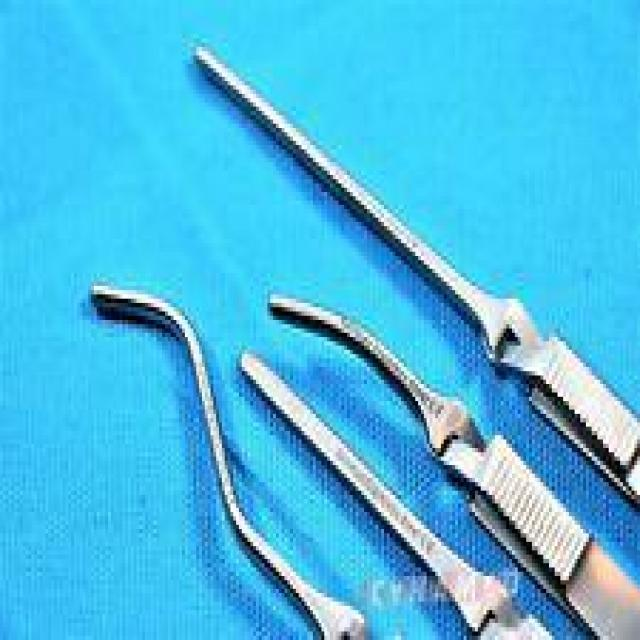Bulldog: (193, 38, 640, 508), (267, 290, 640, 640), (88, 281, 367, 640), (239, 345, 552, 640)
